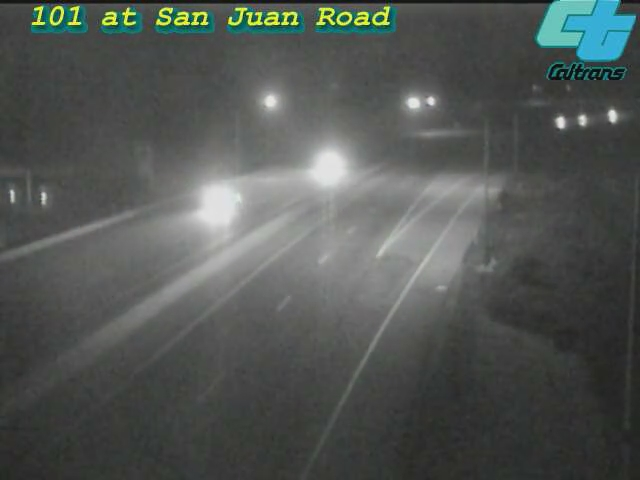vehicle: (179, 158, 259, 238), (284, 126, 364, 206), (588, 91, 638, 141), (562, 95, 612, 145), (536, 98, 586, 148)
